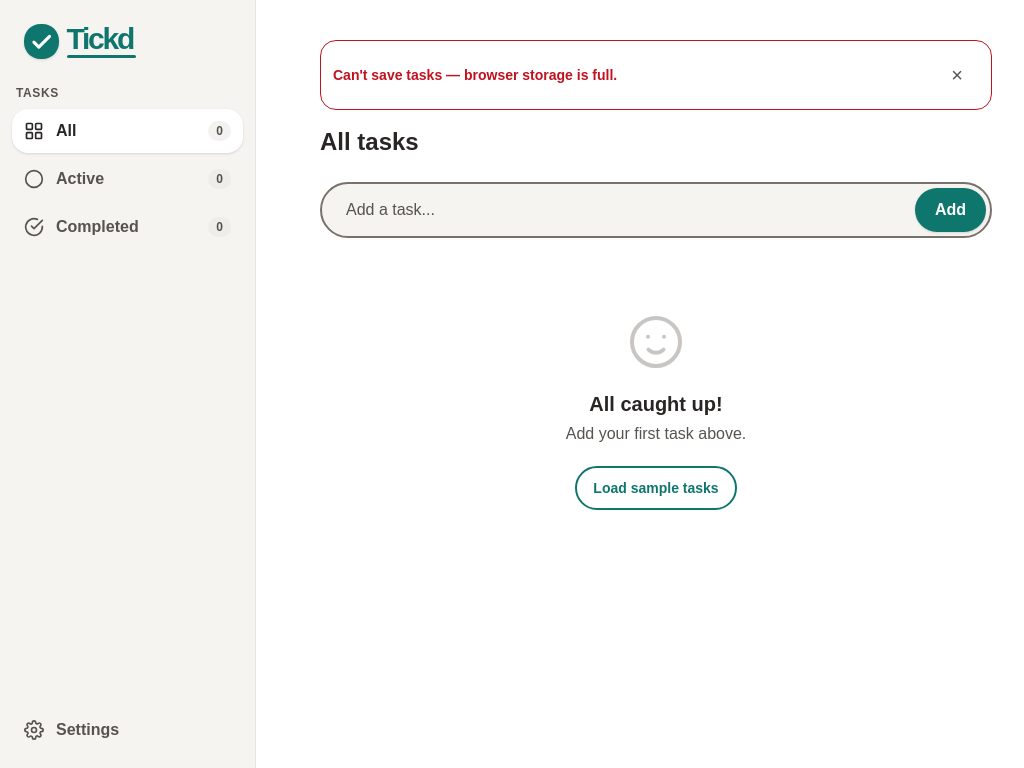
Test: shows one storage message at a time, quota then discarded load then unavailable
Expected: the message shows "Can't save tasks — browser storage is full.", [333,67,617,83]
Expected: the text "Couldn't restore saved tasks. Starting fresh." is not shown
Click the button named "Dismiss": [957, 75] box [935,53,979,97]
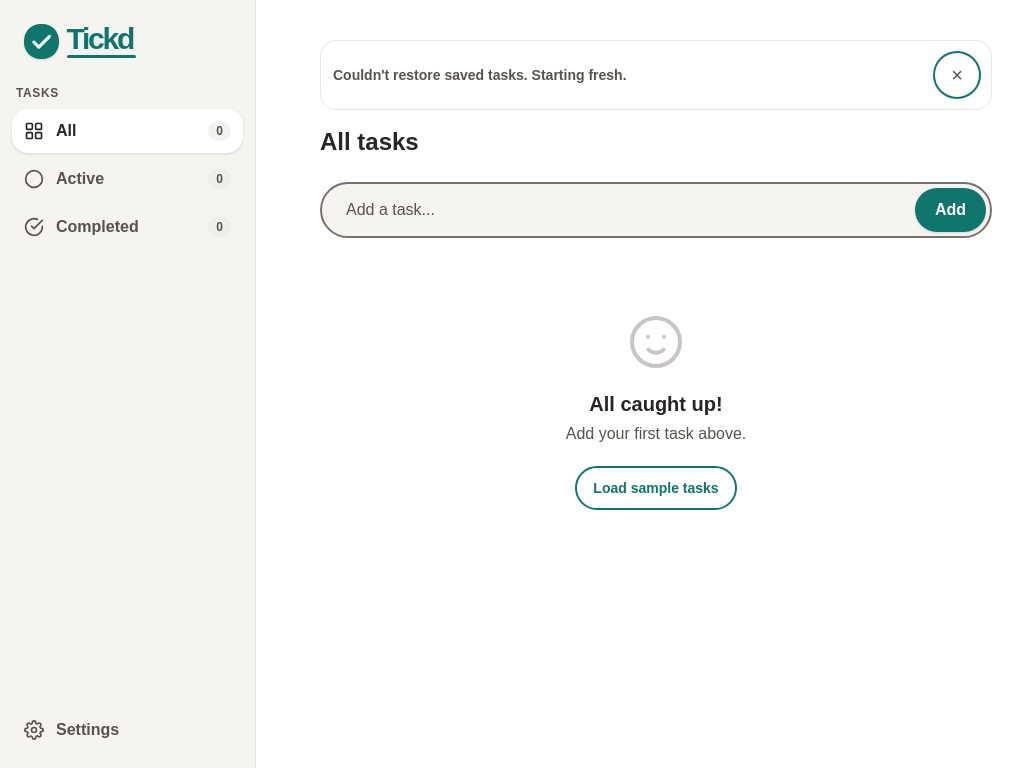
Expected: the text "Can't save tasks — browser storage is unavailable." is not shown
Result: the message shows "Couldn't restore saved tasks. Starting fresh." at [333,67,626,83]
Click the button named "Dismiss": [957, 75] box [935,53,979,97]
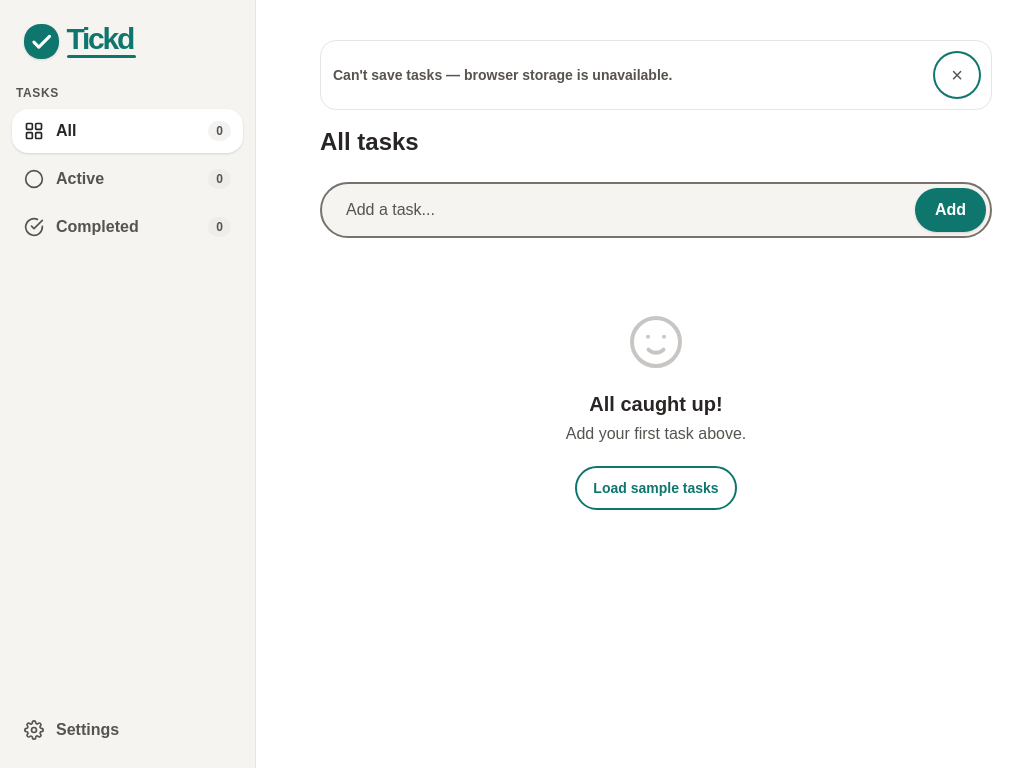
Result: the text "Couldn't restore saved tasks. Starting fresh." is gone
Result: the message shows "Can't save tasks — browser storage is unavailable." at [333,67,672,83]
Click the button named "Dismiss": [957, 75] box [935,53,979,97]
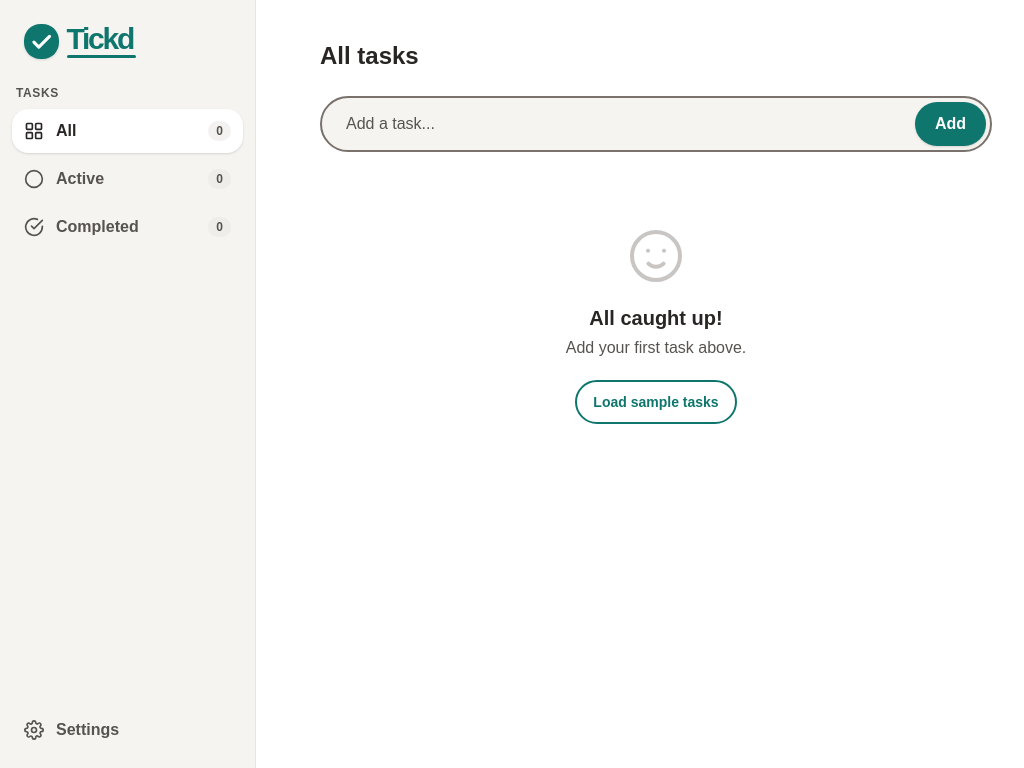
Result: the text "Can't save tasks — browser storage is unavailable." is gone
Result: the button "Dismiss" is gone
